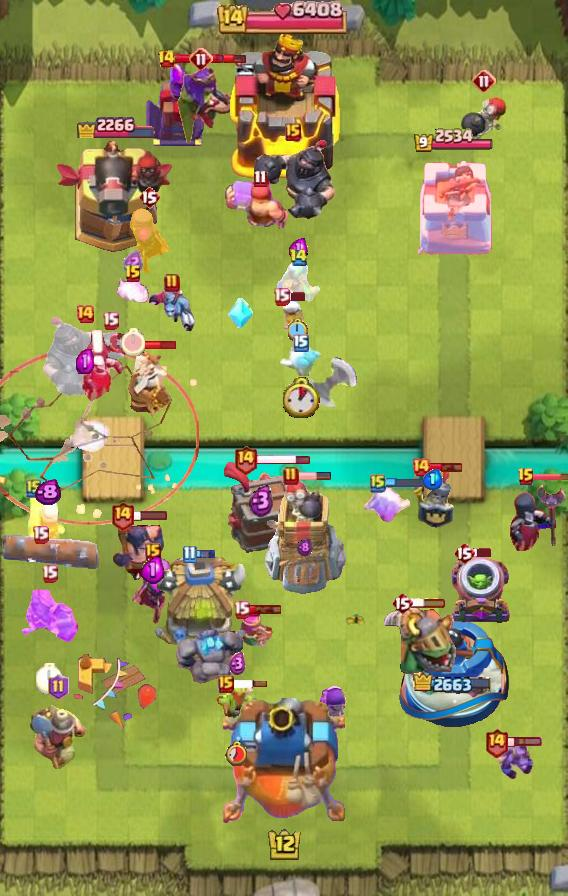archer: (233, 613, 273, 651)
axe: (305, 357, 363, 419)
bar: (256, 453, 311, 466), (174, 52, 225, 65), (384, 477, 436, 489), (211, 52, 247, 65), (506, 736, 543, 748), (411, 597, 447, 609), (132, 509, 168, 521), (428, 461, 464, 473), (143, 339, 178, 351), (247, 604, 282, 615), (232, 679, 268, 689), (296, 471, 332, 481), (532, 472, 568, 481), (194, 549, 216, 560), (473, 547, 493, 558), (287, 291, 307, 302)
bar-level: (484, 727, 509, 758), (110, 500, 135, 531), (233, 444, 258, 475), (472, 69, 496, 93), (189, 47, 213, 71), (48, 674, 69, 700), (391, 591, 413, 615), (453, 541, 475, 565), (138, 185, 160, 209), (411, 457, 431, 477), (75, 304, 95, 324), (157, 49, 176, 69), (289, 248, 308, 267), (517, 467, 535, 487), (124, 264, 142, 284), (233, 600, 250, 619), (41, 564, 58, 583), (32, 525, 49, 544), (102, 311, 119, 330), (273, 287, 290, 306), (26, 478, 42, 498), (370, 473, 386, 493), (283, 466, 299, 486), (164, 273, 180, 293), (218, 675, 234, 693), (145, 543, 161, 561), (293, 334, 309, 352), (285, 123, 301, 141), (182, 545, 197, 564), (253, 169, 268, 188)
bomber: (460, 97, 508, 147)
cannoneer-tower: (53, 138, 175, 256)
clock: (283, 377, 320, 418), (36, 663, 63, 694), (121, 328, 145, 356), (225, 740, 249, 766), (288, 318, 308, 341)
elixir: (249, 484, 274, 517), (34, 479, 61, 506), (141, 555, 165, 584), (123, 250, 143, 275), (76, 349, 94, 374), (289, 237, 308, 260), (423, 469, 443, 490), (229, 652, 246, 676), (297, 538, 312, 557)
executioner: (110, 511, 166, 583)
firecracker: (26, 487, 68, 545)
goblin: (214, 684, 260, 726)
golemite: (172, 625, 244, 693)
guard: (411, 469, 455, 529)
ice-spirit: (278, 342, 324, 376)
ice-spirit-evolution: (364, 486, 414, 524)
ice-spirit-evolution-symbol: (227, 298, 253, 330)
king-tower: (226, 33, 342, 181), (223, 698, 345, 826)
king-tower-bar: (217, 0, 351, 34)
lava-pup: (115, 276, 151, 308)
lumberjack: (225, 176, 295, 232)
miner: (27, 702, 89, 776)
minion: (146, 286, 198, 332), (491, 742, 535, 780)
mortar-evolution: (448, 556, 512, 626)
mother-witch: (128, 557, 178, 627), (124, 207, 174, 277)
night-witch: (79, 330, 141, 402), (507, 482, 567, 554)
queen-tower: (394, 614, 513, 731), (407, 158, 499, 256)
skeleton: (280, 300, 306, 332)
skeleton-evolution: (319, 686, 348, 724)
spear-goblin: (273, 259, 323, 303)
the-log: (0, 533, 102, 569)
tower-bar: (74, 111, 155, 138), (413, 128, 494, 154), (413, 672, 493, 696)
valkyrie-evolution: (20, 586, 78, 646)
